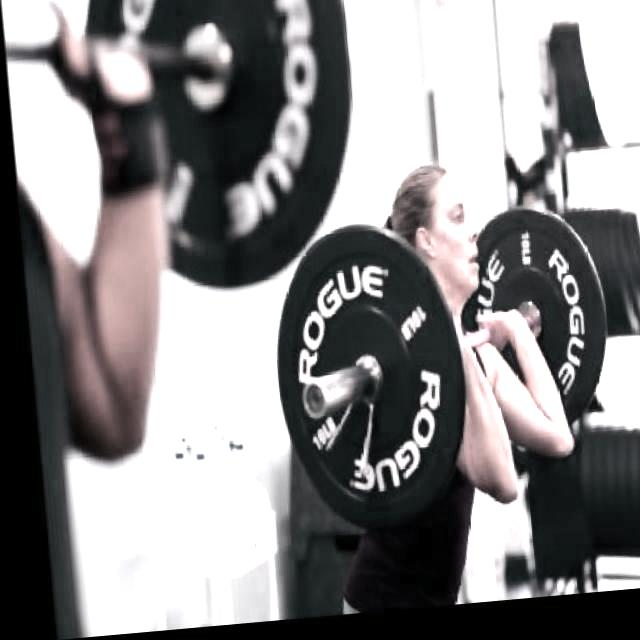barbell: (253, 221, 472, 555)
